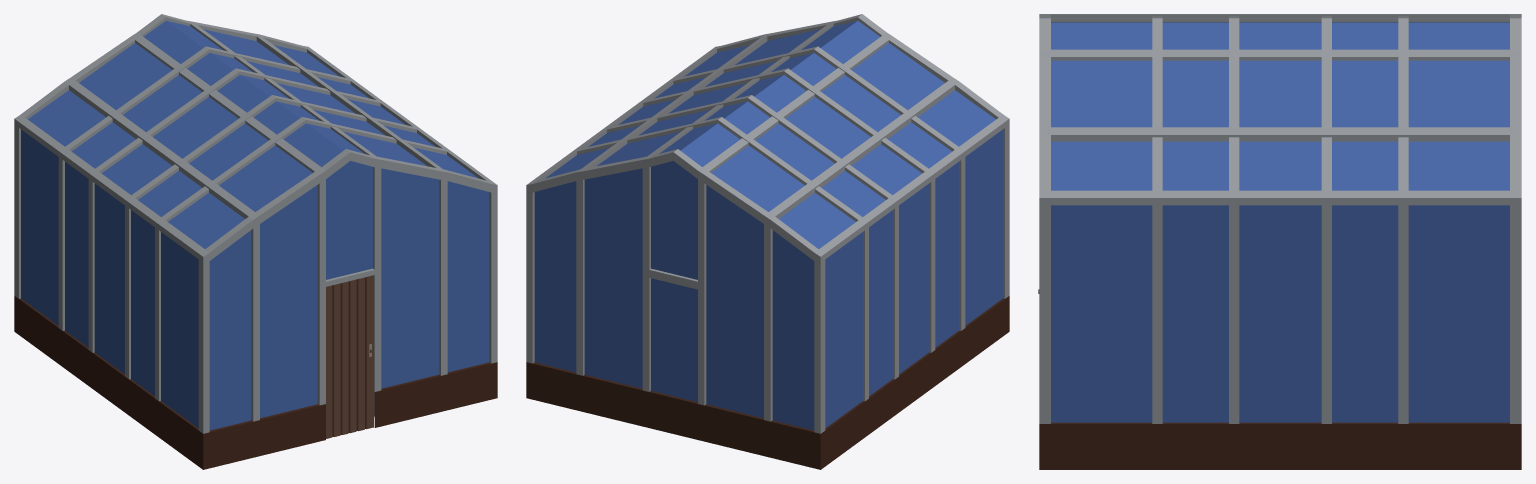
File: Greenhouse_01_C.gltf
3 views of the same model, side by side, from view 1: azimuth 30°, elevation 25°; view 2: azimuth 150°, elevation 25°; view 3: azimuth 270°, elevation 25° (orthographic). The views are drawn at different scales.
Visible parts, largest first — view 1: Greenhouse_01_C, Greenhouse_Door_C; view 2: Greenhouse_01_C; view 3: Greenhouse_01_C.
Part boxes in pixels (box(x1,y1,x2,y2)): Greenhouse_01_C: box(14, 14, 497, 469); Greenhouse_Door_C: box(326, 275, 373, 438); Greenhouse_01_C: box(526, 14, 1009, 469); Greenhouse_01_C: box(1039, 14, 1521, 469).
Size of the model in its own units: 1.8 by 1.65 by 2.
